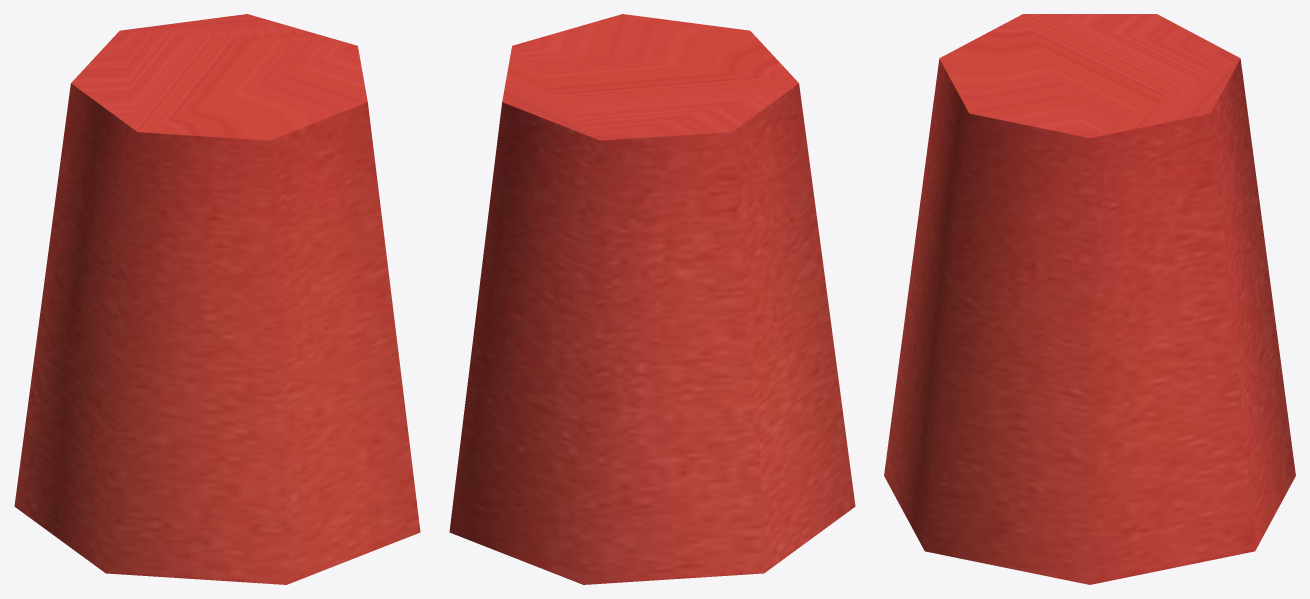
File: cup.FBX
The picture shows the model from 3 angles, left to right: view 1: azimuth 30°, elevation 25°; view 2: azimuth 150°, elevation 25°; view 3: azimuth 270°, elevation 25°; orthographic projection.
Visible parts, largest first — view 1: Cylinder001; view 2: Cylinder001; view 3: Cylinder001.
Part boxes in pixels (left/top/right/bottom): Cylinder001: left=14, top=14, right=420, bottom=584; Cylinder001: left=449, top=14, right=855, bottom=584; Cylinder001: left=884, top=14, right=1295, bottom=584.
Bounding box in the file's own units: 26.36 × 30.62 × 27.04.
Materials: 3 (3 with a texture image).
